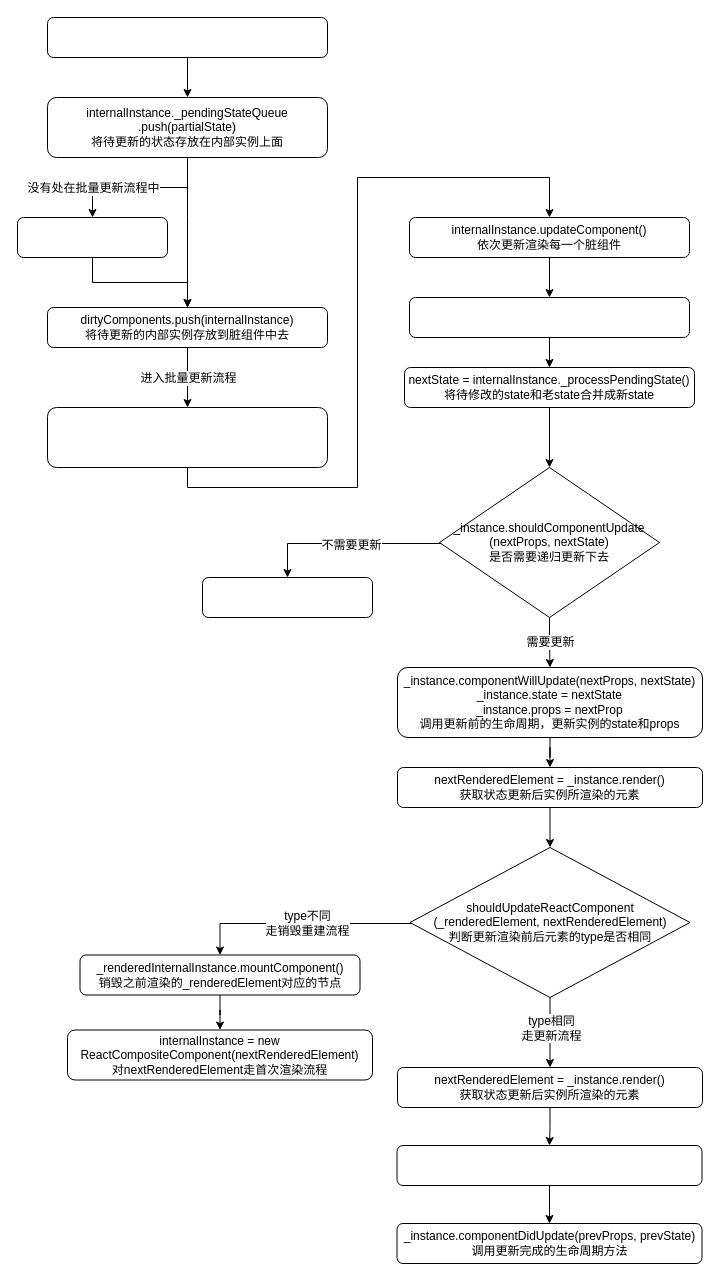
This 720x1281 diagram has some shape labels left out. The box of each missing label's shape, as (x1, y1, x2, y2) in pixels:
_instance.componentWillReceiveProps(nextProps) 调用对应的生命周期: (408, 296, 690, 338)
_instance.state = nextState 则只更新组件实例的state: (202, 576, 372, 618)
dirtyComponents.sort(mountOrderCompartor) 按照组件渲染的先后顺序排序 （保证父组件排在子组件前面）: (46, 406, 328, 468)
isBatchingUpdates = true 启动批量更新流程: (16, 216, 168, 258)
this.setState(partialState) 更新组件元素对应的组件实例的状态: (46, 16, 328, 58)
递归更新渲染 根据所渲染元素的type走对应的更新渲染流程: (396, 1144, 702, 1186)
